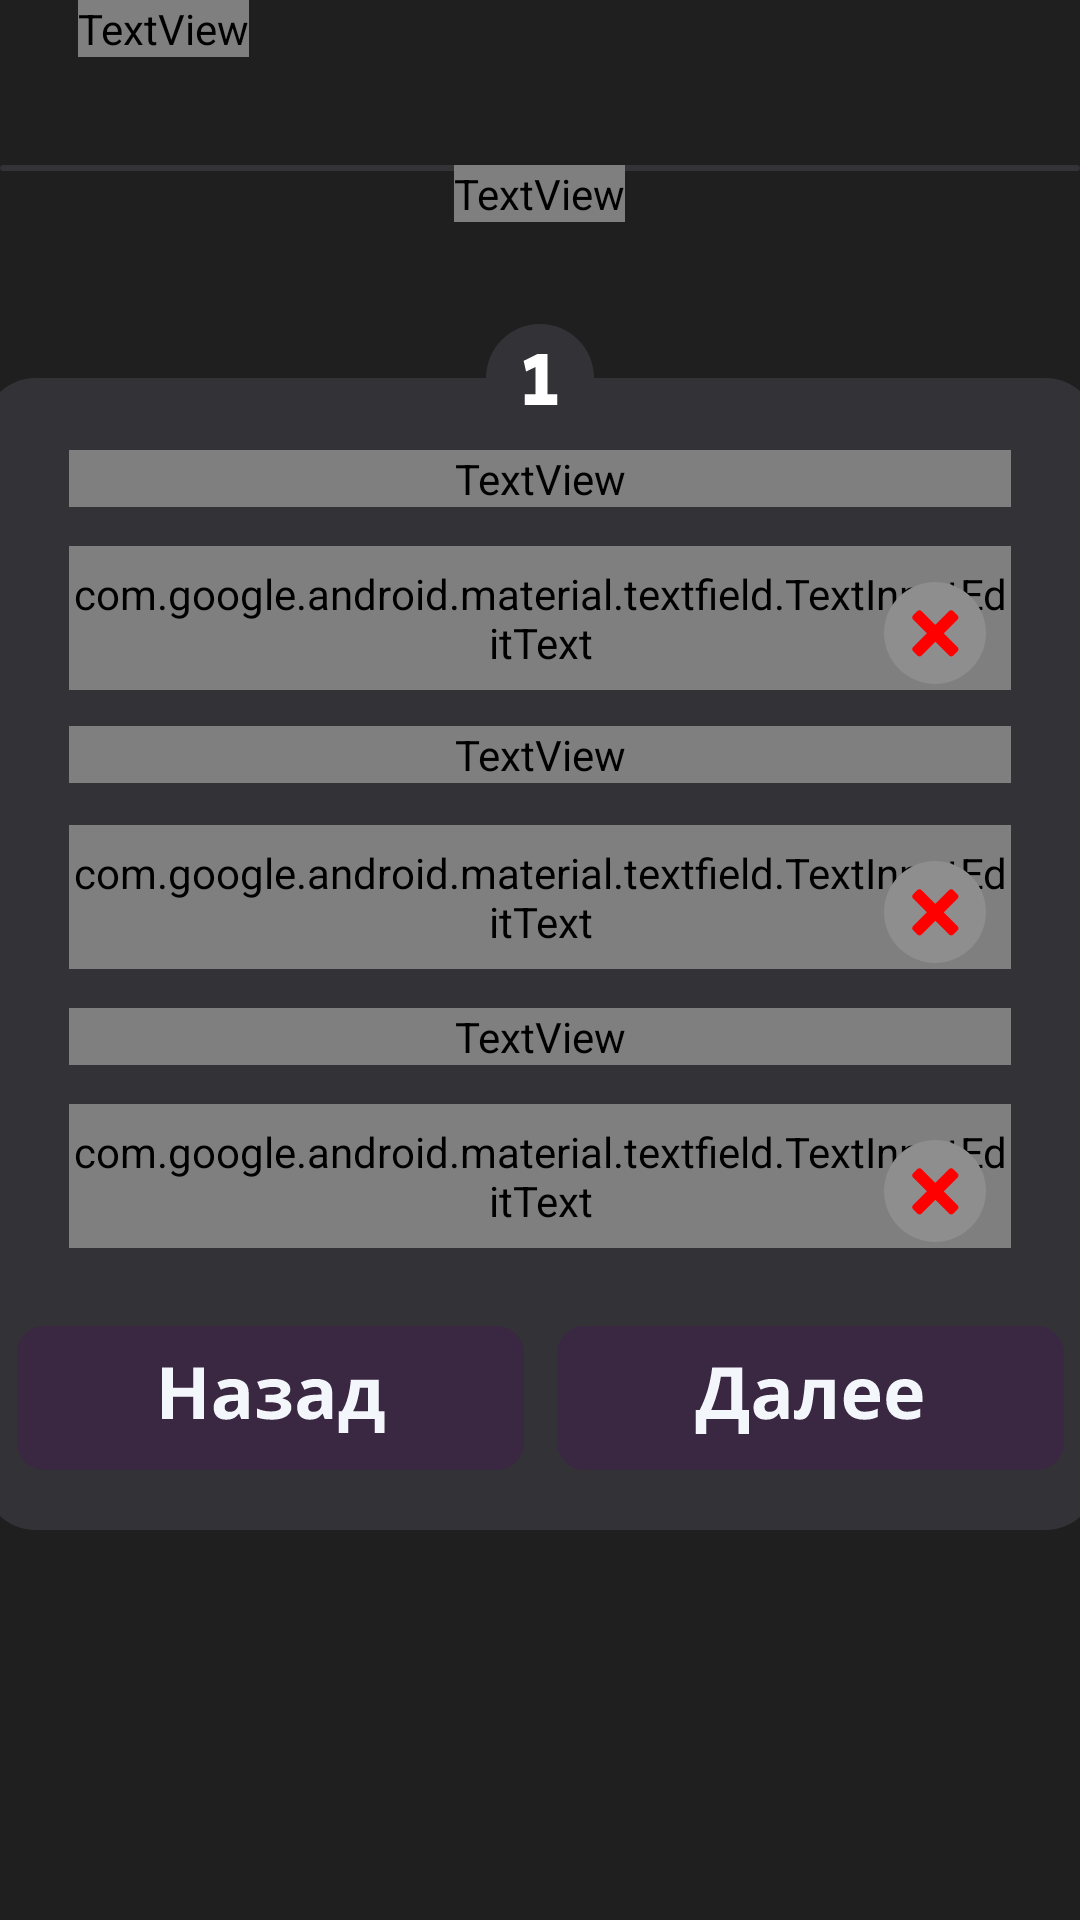

Where to tap for icons on this 1080x1920 app screen, as point (x, y):
pagenumberimage: point (540, 370)
wronglineimage: point (935, 633), point (935, 912), point (935, 1191)
